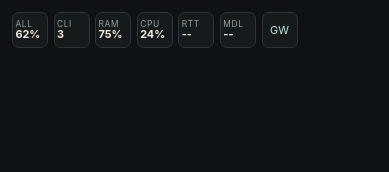
Test: ToolbarMetrics › keeps protected telemetry idle for non-admin users
Hover over the button "ALL 62%" at (30, 30), box [12,12,48,48]
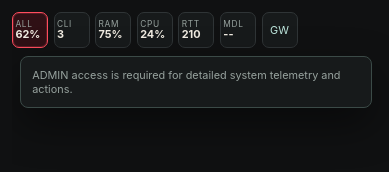
Check: the text "ADMIN access is required" is shown, box [32,68,341,96]
